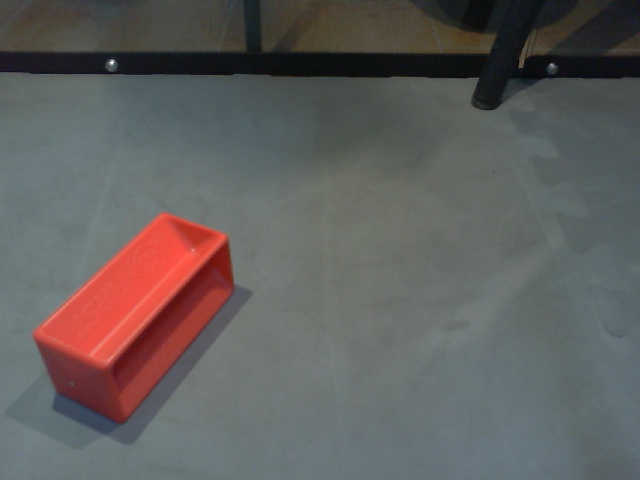RedSample: (29, 212, 236, 426)
